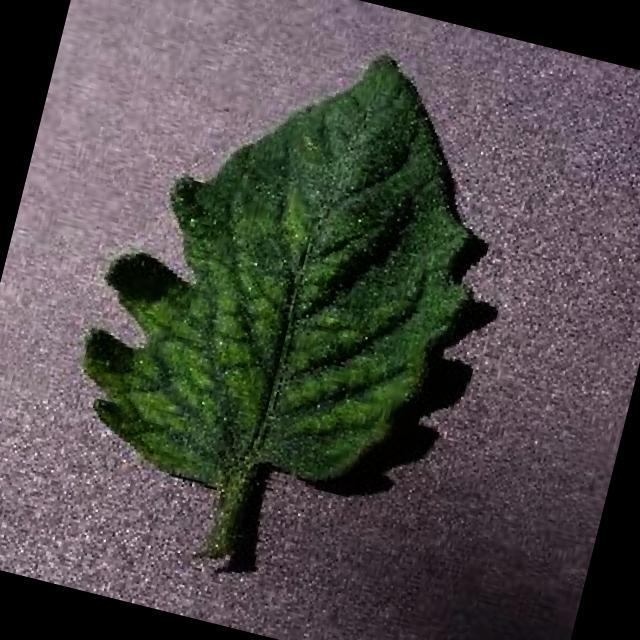Tomato mosaic virus leaf: (52, 0, 532, 542)
